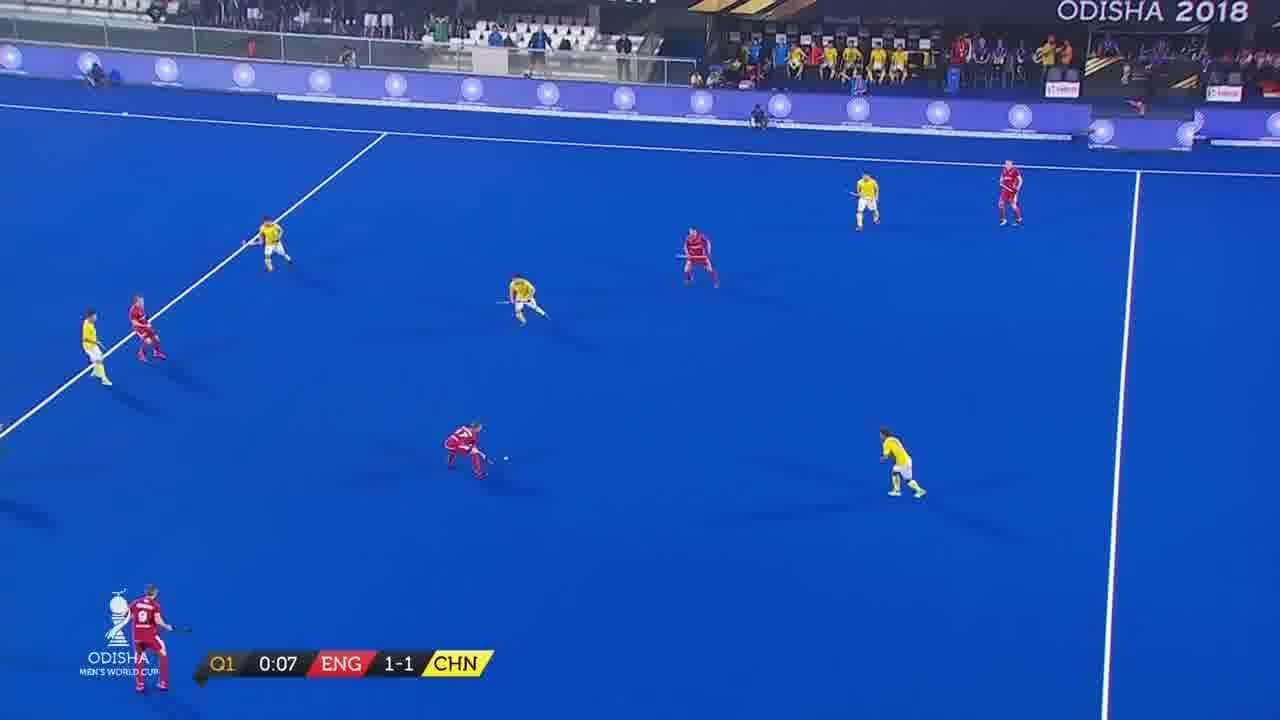ball: (496, 444, 516, 470)
